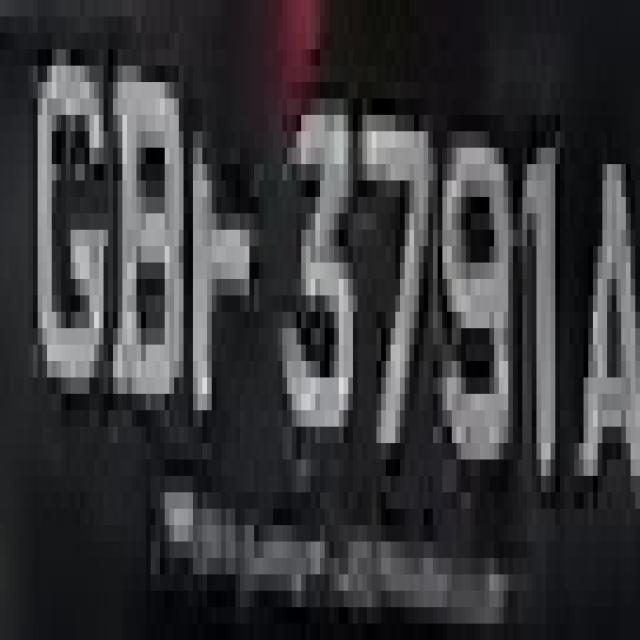1: (518, 115, 564, 525)
3: (282, 49, 358, 509)
7: (353, 66, 438, 460)
9: (428, 115, 518, 509)
A: (570, 131, 630, 558)
B: (103, 16, 193, 443)
G: (19, 49, 113, 410)
